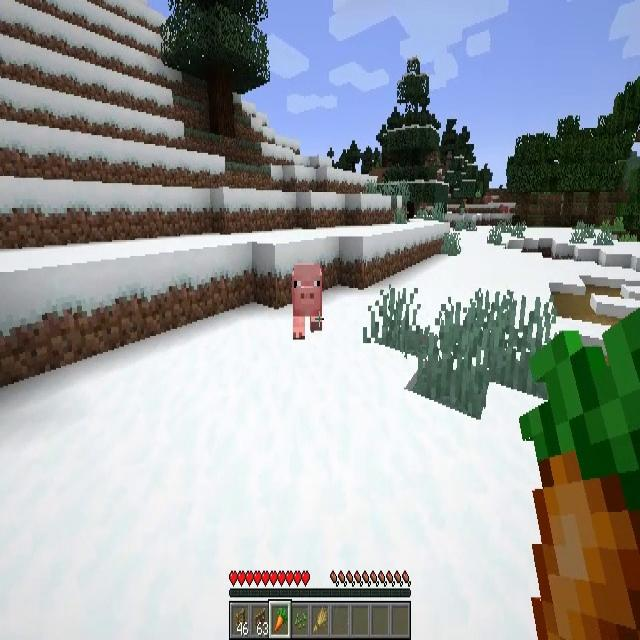pig: (292, 264, 322, 341)
